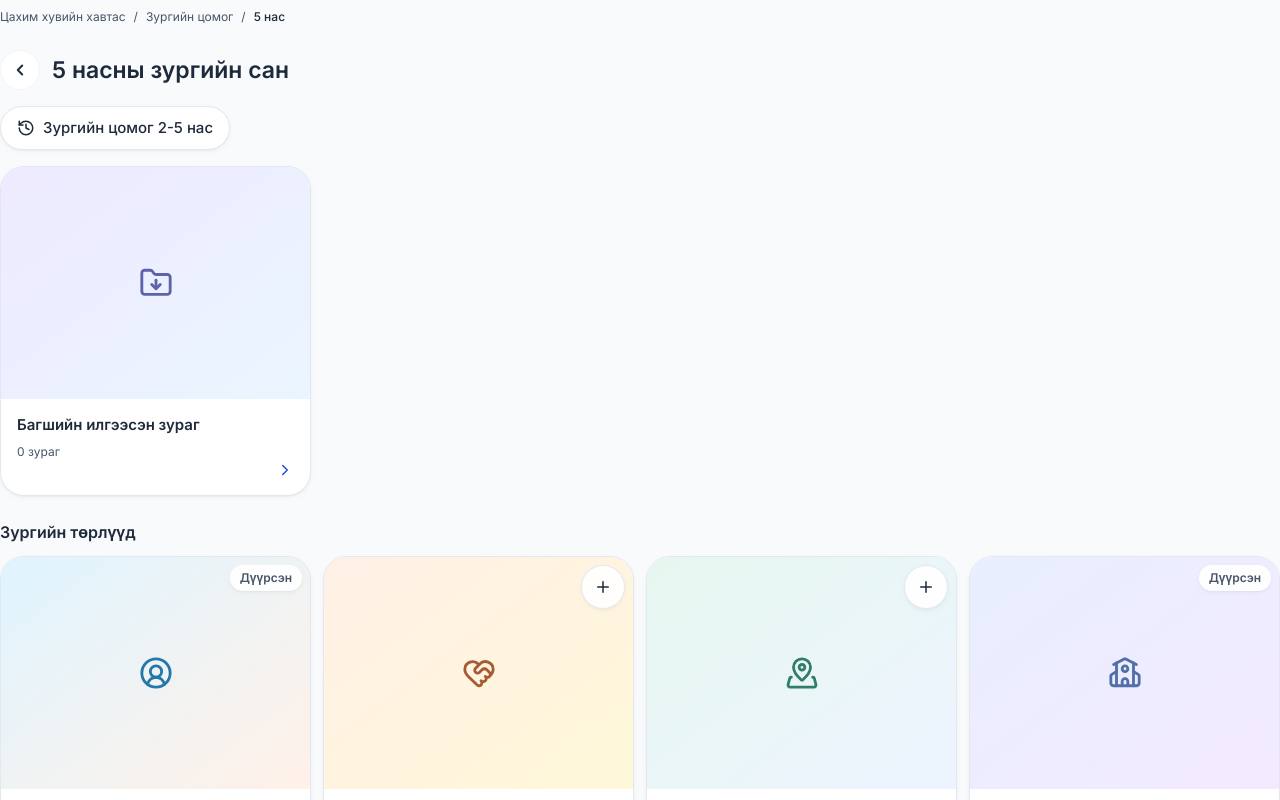
Test: five-year photo library › opens upload from the selected category card instead of a shared top button
The width and height of the screenshot is (1280, 800).
Step 1. Click the button named "Миний гэр бүл ангилалд зураг нэмэх" → (603, 587), box [581,565,625,609]
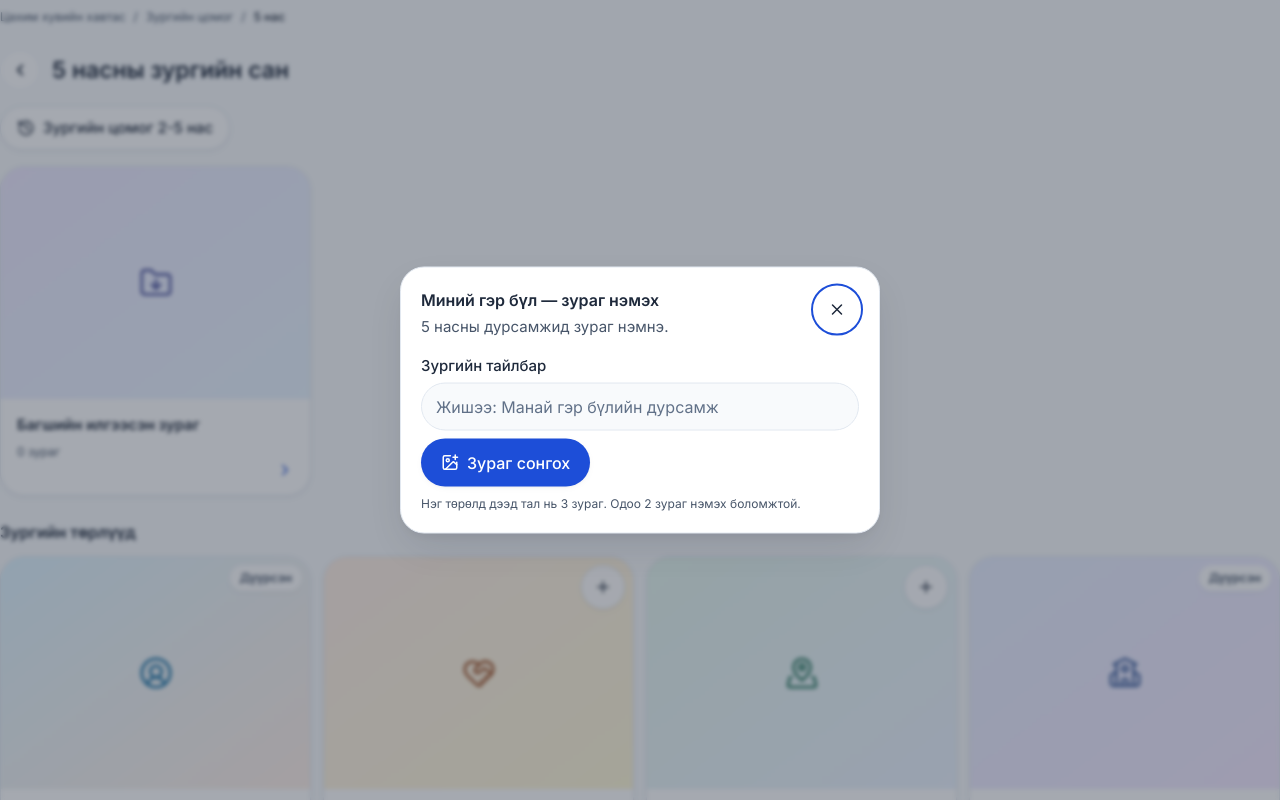
Now the dialog "Миний гэр бүл — зураг нэмэх" is shown, box [400,266,880,534]
Now the file field "Зураг сонгох" is shown, box [421,438,590,486]
Now the field labelled "Зургийн тайлбар" is shown, box [421,382,859,430]
